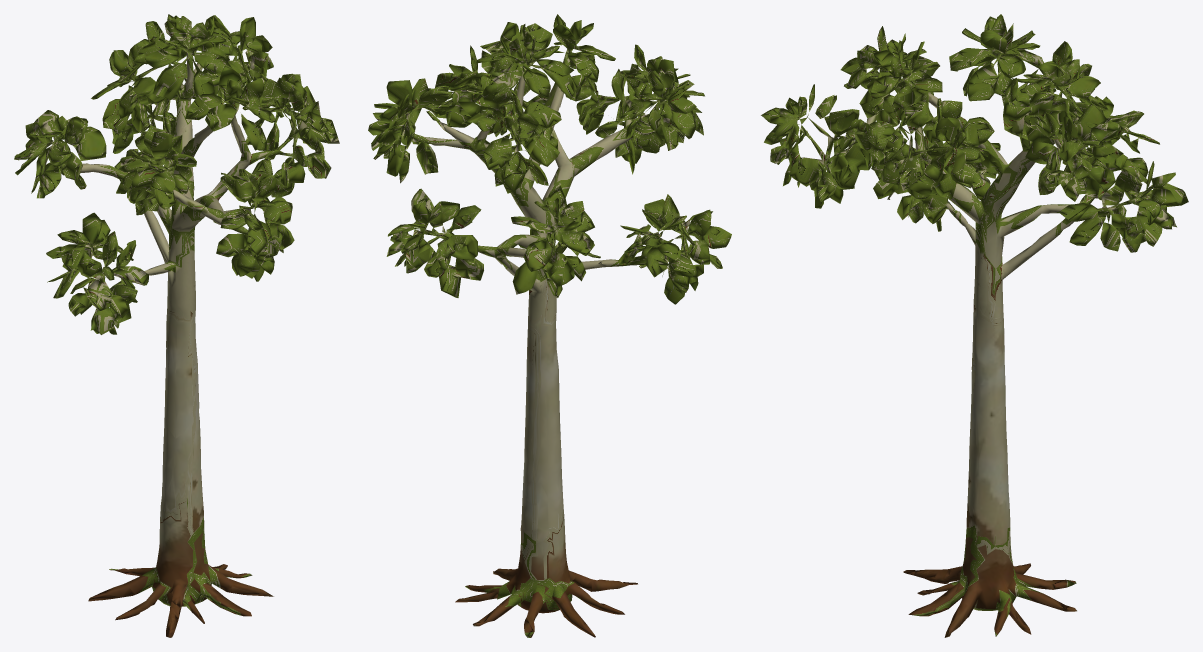
File: low-poly+tree+3d+model.glb
3 views of the same model, side by side, from view 1: azimuth 30°, elevation 25°; view 2: azimuth 150°, elevation 25°; view 3: azimuth 270°, elevation 25° (orthographic). The views are drawn at different scales.
Visible parts, largest first — view 1: tripo_node_1f210290-b908-4d07-861c-ca8bab139ec5; view 2: tripo_node_1f210290-b908-4d07-861c-ca8bab139ec5; view 3: tripo_node_1f210290-b908-4d07-861c-ca8bab139ec5.
Boxes of the visible parts, left/top/right/bottom form: tripo_node_1f210290-b908-4d07-861c-ca8bab139ec5: left=14, top=14, right=339, bottom=637; tripo_node_1f210290-b908-4d07-861c-ca8bab139ec5: left=368, top=14, right=731, bottom=637; tripo_node_1f210290-b908-4d07-861c-ca8bab139ec5: left=761, top=14, right=1188, bottom=637.
Bounding box in the file's own units: 0.4921 × 0.978 × 0.6438.
1 material, 1 textured.
